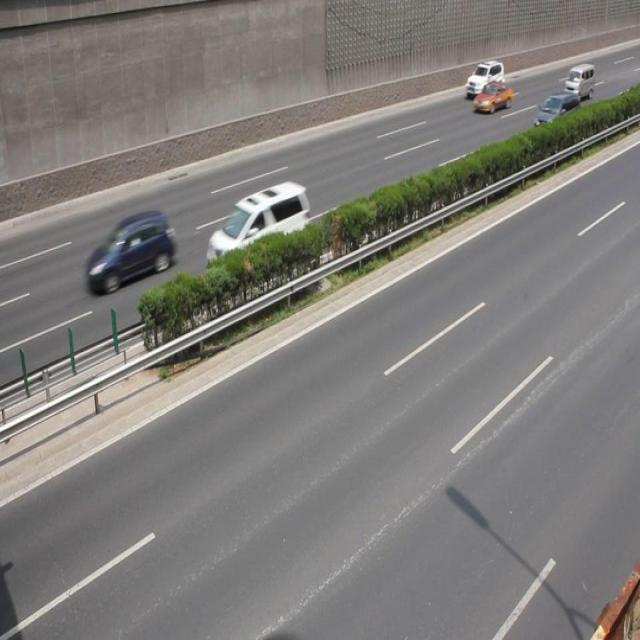car: (203, 182, 311, 286), (82, 210, 176, 294), (531, 94, 579, 137), (464, 59, 503, 100), (471, 78, 510, 114)
truck: (562, 64, 592, 102)
